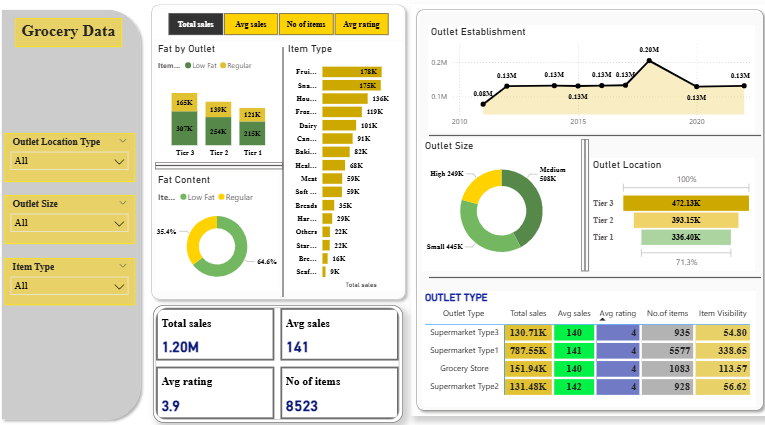

Layout of this report page (visuals, bound fields, positions):
{"tool":"powerbi","page":{"name":"Page 1","canvas":[1280,720],"ordinal":0},"visuals":[{"type":"shape","box":[0,14.9,248.4,697.1],"z":0},{"type":"shape","box":[687.2,14.9,592.8,682.2],"z":1000},{"type":"shape","box":[248.4,6.6,438.8,506.7],"z":2000},{"type":"donutChart","title":"Fat Content","fields":{"Y":["BlinkIT Grocery Data.Total sales"],"Category":["BlinkIT Grocery Data.Item Fat Content"]},"box":[263.3,294.7,205.3,195.4],"z":3000},{"type":"barChart","title":"Item Type","fields":{"Y":["BlinkIT Grocery Data.Total sales"],"Category":["BlinkIT Grocery Data.Item Type"]},"box":[478.6,77.8,195.4,412.3],"z":4000},{"type":"columnChart","title":" Fat by Outlet","fields":{"Y":["BlinkIT Grocery Data.Total sales"],"Category":["BlinkIT Grocery Data.Outlet Location Type"],"Series":["BlinkIT Grocery Data.Item Fat Content"]},"box":[263.6,77.9,212.2,199],"z":5000},{"type":"lineChart","title":" Outlet Establishment ","fields":{"Y":["BlinkIT Grocery Data.Total sales"],"Category":["BlinkIT Grocery Data.Outlet Establishment Year"]},"box":[715.3,49.7,541.5,177.2],"z":6000},{"type":"donutChart","title":"Outlet Size","fields":{"Category":["BlinkIT Grocery Data.Outlet Size"],"Y":["BlinkIT Grocery Data.Total sales"]},"box":[705.4,238.4,263.3,218.6],"z":7000},{"type":"funnel","title":" Outlet Location","fields":{"Y":["Sum(BlinkIT Grocery Data.Sales)"],"Category":["BlinkIT Grocery Data.Outlet Location Type"]},"box":[983.6,269.9,273.2,187.1],"z":8000},{"type":"pivotTable","title":"OUTLET TYPE","fields":{"Rows":["BlinkIT Grocery Data.Outlet Type"],"Values":["BlinkIT Grocery Data.Total sales","BlinkIT Grocery Data.Avg sales","BlinkIT Grocery Data.Avg rating","BlinkIT Grocery Data.No of items","Sum(BlinkIT Grocery Data.Item Visibility)"]},"box":[705.4,490.1,553.1,192.1],"z":9000},{"type":"slicer","fields":{"Values":["metrices.metrices"]},"box":[260,23.2,414,49.7],"z":10000},{"type":"textbox","box":[51.3,28.2,142.4,69.5],"z":11000},{"type":"textbox","box":[31.5,72.9,182.1,48],"z":12000},{"type":"shape","box":[468.6,86.1,13.2,414],"z":13000},{"type":"shape","box":[263.3,276.5,212,11.6],"z":14000},{"type":"shape","box":[717,226.9,549.8,11.6],"z":15000},{"type":"shape","box":[968.7,238.4,13.2,218.6],"z":16000},{"type":"shape","box":[717,457,549.8,21.5],"z":17000},{"type":"cardVisual","fields":{"Data":["BlinkIT Grocery Data.Total sales","BlinkIT Grocery Data.Avg sales","BlinkIT Grocery Data.Avg rating","BlinkIT Grocery Data.No of items"]},"box":[260,513.3,414,195.4],"z":18000},{"type":"slicer","fields":{"Values":["BlinkIT Grocery Data.Item Type"]},"box":[13.2,435.5,216.9,77.8],"z":19000},{"type":"slicer","fields":{"Values":["BlinkIT Grocery Data.Outlet Location Type"]},"box":[13.2,228.5,216.9,81.1],"z":20000},{"type":"slicer","fields":{"Values":["BlinkIT Grocery Data.Outlet Size"]},"box":[13.2,331.2,216.9,81.1],"z":21000}]}

Visuals, with their boxes in screenshot pixels (x1, y1, x2, y2), scaled from the page's 1280x720 canvas onto the 765x425 screenshot:
shape: crop(0, 9, 148, 420)
shape: crop(411, 9, 764, 411)
shape: crop(148, 4, 411, 303)
"Fat Content" donutChart: crop(157, 174, 280, 289)
"Item Type" barChart: crop(286, 46, 403, 289)
" Fat by Outlet" columnChart: crop(158, 46, 284, 163)
" Outlet Establishment " lineChart: crop(428, 29, 751, 134)
"Outlet Size" donutChart: crop(422, 141, 579, 270)
" Outlet Location" funnel: crop(588, 159, 751, 270)
"OUTLET TYPE" pivotTable: crop(422, 289, 752, 403)
slicer - metrices.metrices: crop(155, 14, 403, 43)
textbox: crop(31, 17, 116, 58)
textbox: crop(19, 43, 128, 71)
shape: crop(280, 51, 288, 295)
shape: crop(157, 163, 284, 170)
shape: crop(429, 134, 757, 141)
shape: crop(579, 141, 587, 270)
shape: crop(429, 270, 757, 282)
cardVisual - BlinkIT Grocery Data.Total sales x BlinkIT Grocery Data.Avg sales: crop(155, 303, 403, 418)
slicer - BlinkIT Grocery Data.Item Type: crop(8, 257, 138, 303)
slicer - BlinkIT Grocery Data.Outlet Location Type: crop(8, 135, 138, 183)
slicer - BlinkIT Grocery Data.Outlet Size: crop(8, 196, 138, 243)
